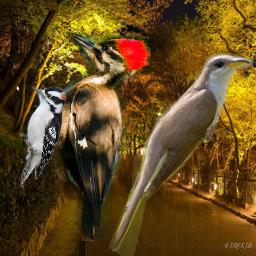Cuckoo: (107, 54, 253, 256)
Woodpecker: (44, 32, 151, 241), (20, 82, 70, 189)
